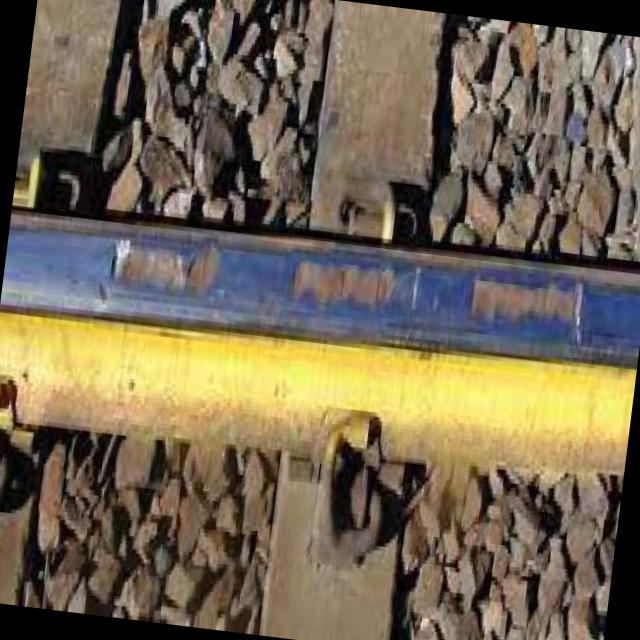defective: (35, 162, 640, 478)
